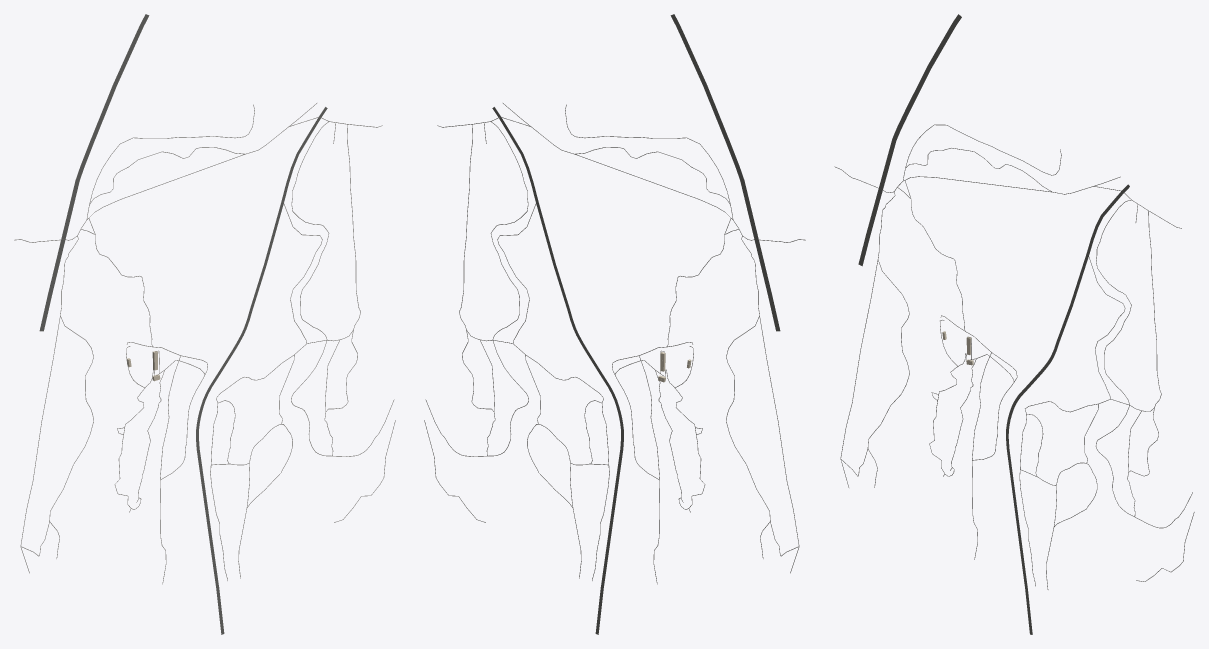
Rendered from historic-palestine-07_25_3493_3194.glb.
3 views of the same model, side by side, from view 1: azimuth 30°, elevation 25°; view 2: azimuth 150°, elevation 25°; view 3: azimuth 330°, elevation 25° (orthographic). The views are drawn at different scales.
Visible parts, largest first — view 1: Road 4314, Road כביש ירושלים תל אביב; view 2: Road 4314, Road כביש ירושלים תל אביב; view 3: Road 4314, Road כביש ירושלים תל אביב.
Boxes of the visible parts, box(x1,y1,x2,y2) form: Road 4314: box(196, 120, 318, 634); Road כביש ירושלים תל אביב: box(39, 14, 149, 331); Road 4314: box(501, 120, 623, 634); Road כביש ירושלים תל אביב: box(670, 14, 780, 331); Road 4314: box(1006, 193, 1121, 634); Road כביש ירושלים תל אביב: box(858, 14, 961, 266).
Bounding box in the file's own units: 1021 × 1635 × 8.7.
